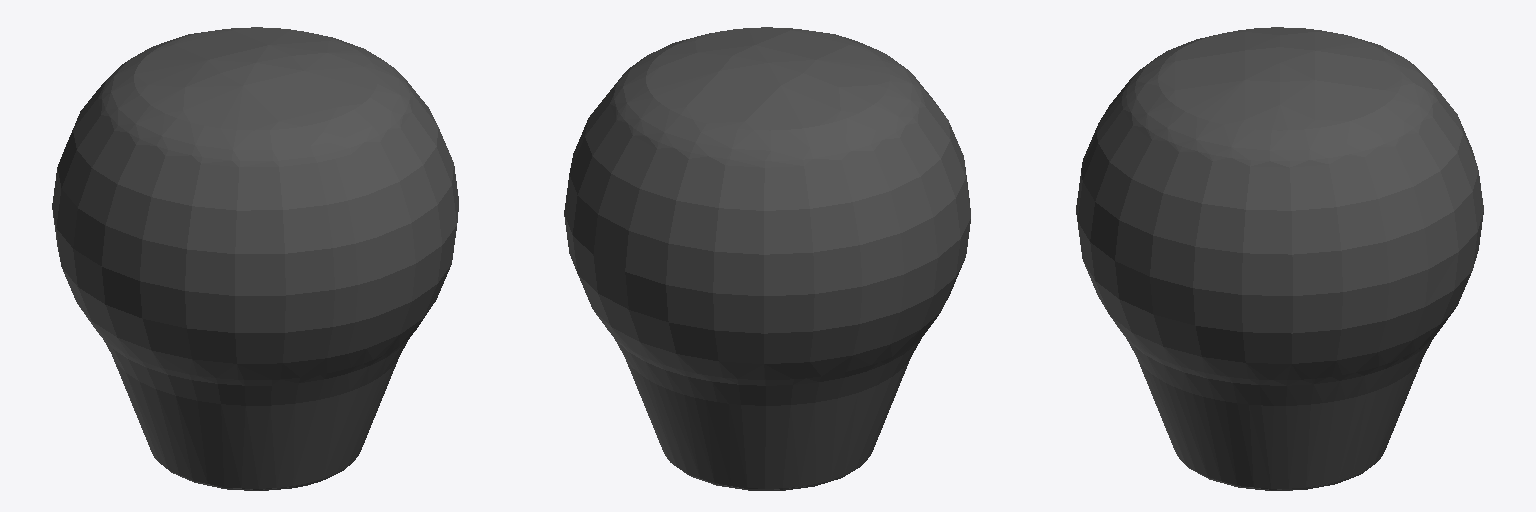
3 renders of one model, left to right at view 1: azimuth 30°, elevation 25°; view 2: azimuth 150°, elevation 25°; view 3: azimuth 270°, elevation 25°, orthographic.
Visible parts, largest first — view 1: gn_718_1-45-47-b12-g_1; view 2: gn_718_1-45-47-b12-g_1; view 3: gn_718_1-45-47-b12-g_1.
Part boxes in pixels (bbox=[...]): gn_718_1-45-47-b12-g_1: bbox=[52, 27, 458, 490]; gn_718_1-45-47-b12-g_1: bbox=[564, 27, 970, 490]; gn_718_1-45-47-b12-g_1: bbox=[1076, 27, 1483, 490].
Size of the model in its own units: 44.91 by 47 by 45.